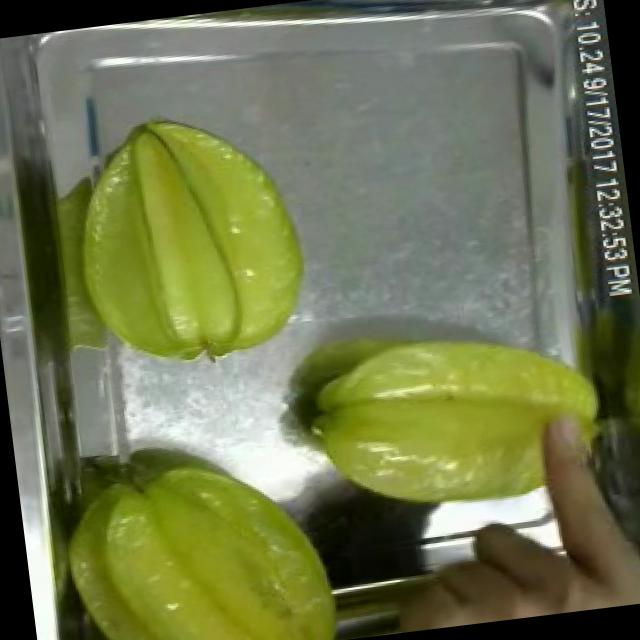fruit: (284, 296, 625, 541), (46, 90, 324, 390), (39, 426, 349, 640)
